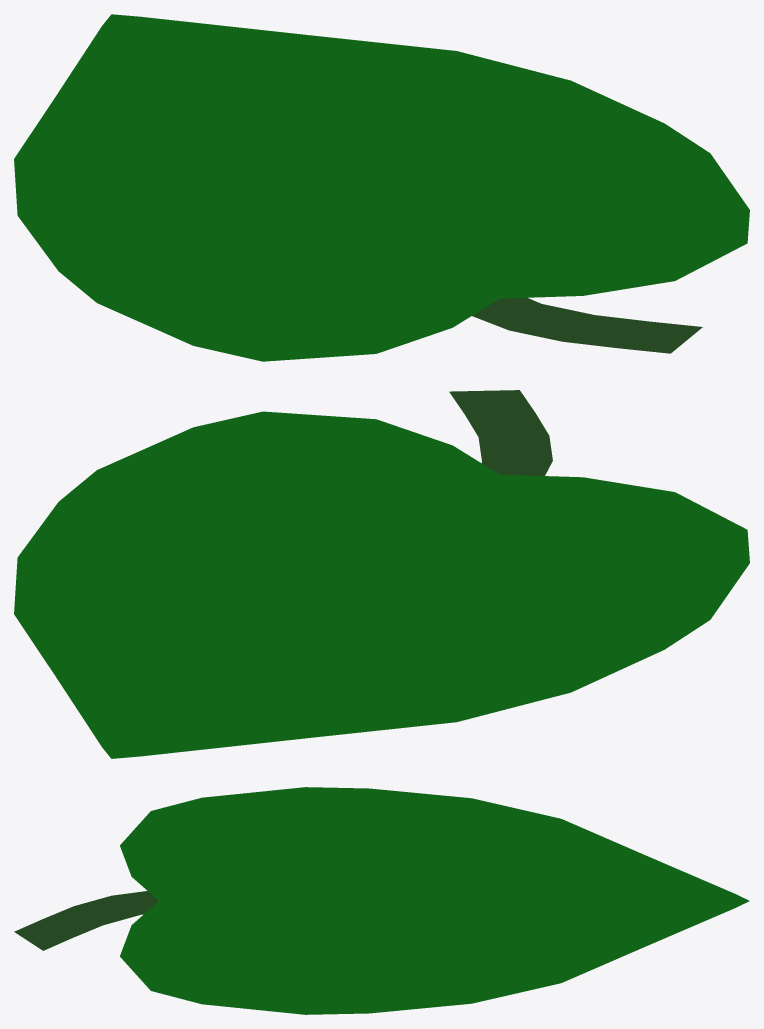
File: leaf.fbx
3 views of the same model, one above another, from view 1: azimuth 30°, elevation 25°; view 2: azimuth 150°, elevation 25°; view 3: azimuth 270°, elevation 25° (orthographic). The views are drawn at different scales.
Parts seen in each view (by area): view 1: leaf; view 2: leaf; view 3: leaf.
Part boxes in pixels (x1,y1,x2,y2): leaf: [14, 14, 749, 361]; leaf: [14, 390, 749, 758]; leaf: [14, 787, 749, 1014].
Size of the model in its own units: 7.6 by 0.0438 by 10.38.
